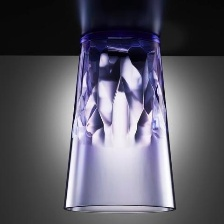glass: (58, 23, 180, 218)
